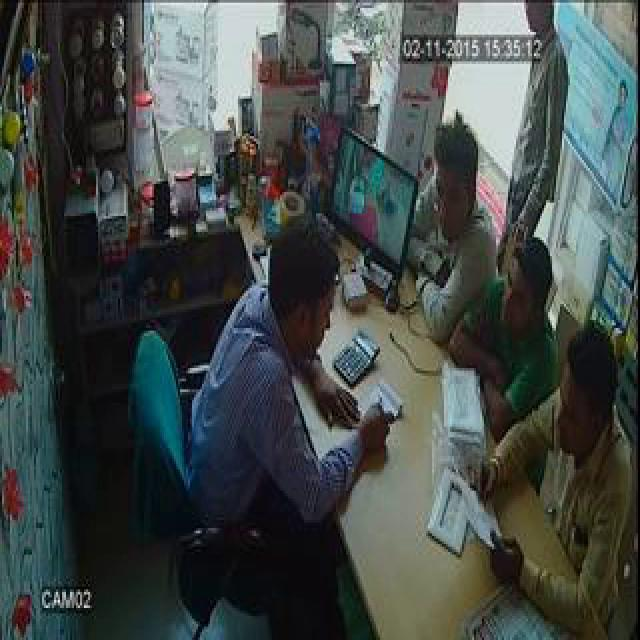shoplifting: (308, 8, 626, 292)
